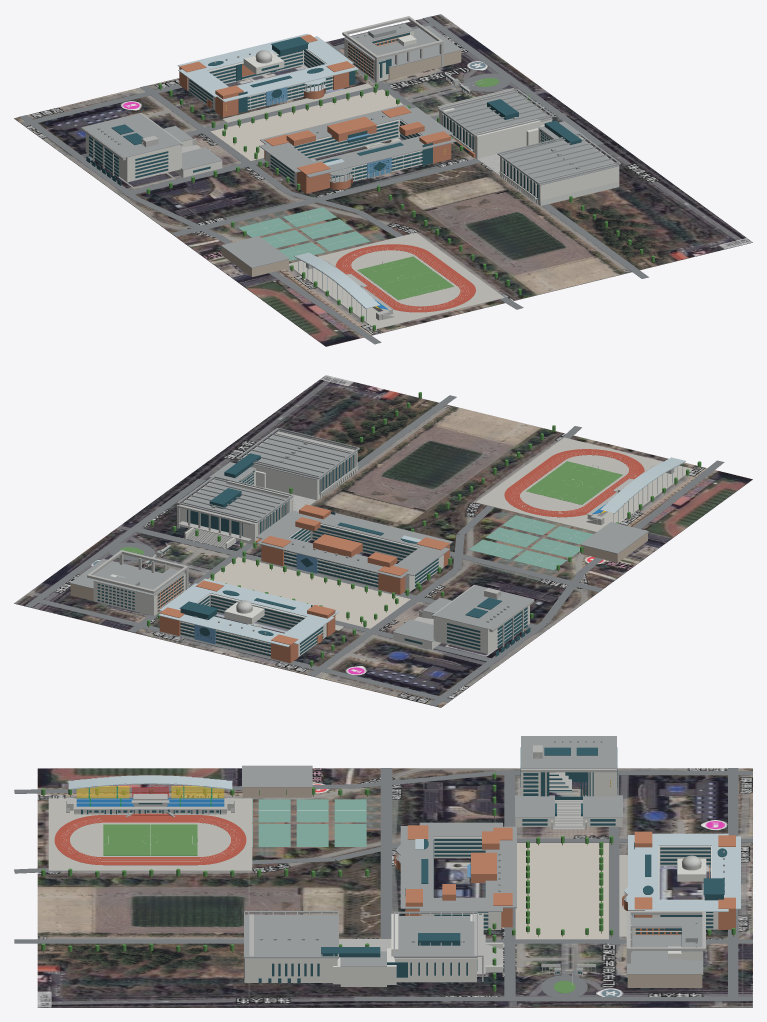
Rendered from SJZU_Campus_Master_v007_Textured.glb.
3 views of the same model, one above another, from view 1: azimuth 30°, elevation 25°; view 2: azimuth 150°, elevation 25°; view 3: azimuth 270°, elevation 25° (orthographic). The views are drawn at different scales.
Visible parts, largest first — view 1: SATELLITE_GROUND, stadium__stadium_site, FOUNTAIN_PLAZA, activity_center__right_main_roof, library__roof_main, QIUXIN_ROAD, activity_center__left_main_roof, stadium__track_surface, shangxue__south_canopy, activity_center__right_activity_hall_main, activity_center__left_inner_sign_tower, library__upper_left_wing (+34 smaller); view 2: SATELLITE_GROUND, FOUNTAIN_PLAZA, stadium__stadium_site, activity_center__right_main_roof, library__roof_main, HOUDE_ROAD, activity_center__left_main_roof, stadium__track_surface, shangxue__south_canopy, library__upper_right_wing, activity_center__right_activity_hall_main, EAST_BOUNDARY_ROAD_01 (+36 smaller); view 3: SATELLITE_GROUND, FOUNTAIN_PLAZA, stadium__stadium_site, activity_center__right_main_roof, library__roof_main, activity_center__left_main_roof, QIUXIN_ROAD, stadium__track_surface, EAST_NORTH_BUILDING_ROOF, activity_center__right_rear_tiled_wall, EAST_BOUNDARY_ROAD_01, YUANDING_ROAD_01 (+45 smaller).
Part boxes in pixels (left/top/right/bottom): SATELLITE_GROUND: left=14, top=14, right=752, bottom=346; stadium__stadium_site: left=289, top=232, right=504, bottom=329; FOUNTAIN_PLAZA: left=210, top=89, right=402, bottom=160; activity_center__right_main_roof: left=502, top=136, right=618, bottom=185; library__roof_main: left=82, top=113, right=181, bottom=157; QIUXIN_ROAD: left=171, top=158, right=481, bottom=236; activity_center__left_main_roof: left=443, top=92, right=551, bottom=135; stadium__track_surface: left=342, top=246, right=469, bottom=309; shangxue__south_canopy: left=306, top=135, right=456, bottom=177; activity_center__right_activity_hall_main: left=500, top=156, right=618, bottom=203; activity_center__left_inner_sign_tower: left=473, top=119, right=540, bottom=158; library__upper_left_wing: left=116, top=144, right=181, bottom=182; SATELLITE_GROUND: left=14, top=375, right=752, bottom=707; FOUNTAIN_PLAZA: left=208, top=557, right=410, bottom=628; stadium__stadium_site: left=475, top=437, right=693, bottom=532; activity_center__right_main_roof: left=238, top=431, right=354, bottom=480; library__roof_main: left=433, top=585, right=533, bottom=629; HOUDE_ROAD: left=35, top=598, right=451, bottom=702; activity_center__left_main_roof: left=183, top=479, right=289, bottom=521; stadium__track_surface: left=510, top=451, right=638, bottom=514; shangxue__south_canopy: left=298, top=511, right=452, bottom=547; library__upper_right_wing: left=433, top=616, right=500, bottom=654; activity_center__right_activity_hall_main: left=251, top=451, right=357, bottom=500; EAST_BOUNDARY_ROAD_01: left=25, top=478, right=205, bottom=607; SATELLITE_GROUND: left=37, top=768, right=752, bottom=1007; FOUNTAIN_PLAZA: left=515, top=843, right=608, bottom=939; stadium__stadium_site: left=48, top=798, right=252, bottom=871; activity_center__right_main_roof: left=244, top=914, right=337, bottom=959; library__roof_main: left=521, top=736, right=616, bottom=768; activity_center__left_main_roof: left=394, top=916, right=477, bottom=958; QIUXIN_ROAD: left=380, top=768, right=392, bottom=938; stadium__track_surface: left=60, top=818, right=240, bottom=861; EAST_NORTH_BUILDING_ROOF: left=627, top=935, right=702, bottom=974; activity_center__right_rear_tiled_wall: left=245, top=958, right=337, bottom=982; EAST_BOUNDARY_ROAD_01: left=354, top=997, right=752, bottom=1001; YUANDING_ROAD_01: left=14, top=939, right=752, bottom=943.
Bounding box in the file's own units: 440 × 37.53 × 575.
23 materials, 1 textured.
